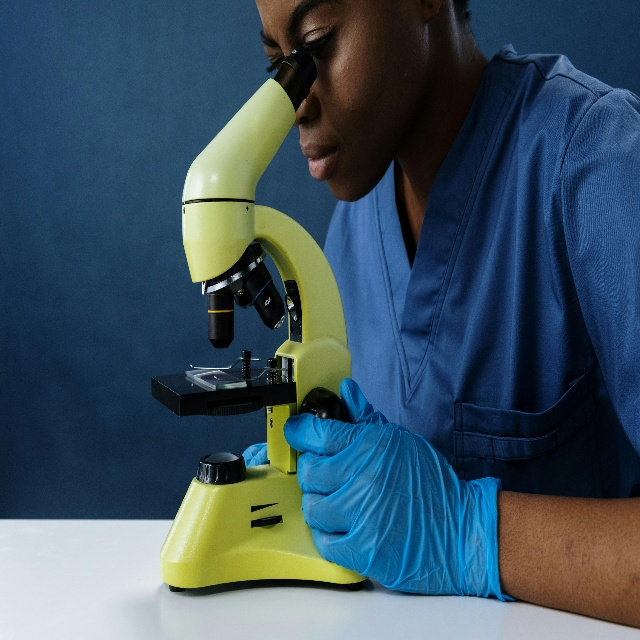Guantes: (281, 380, 506, 597)
